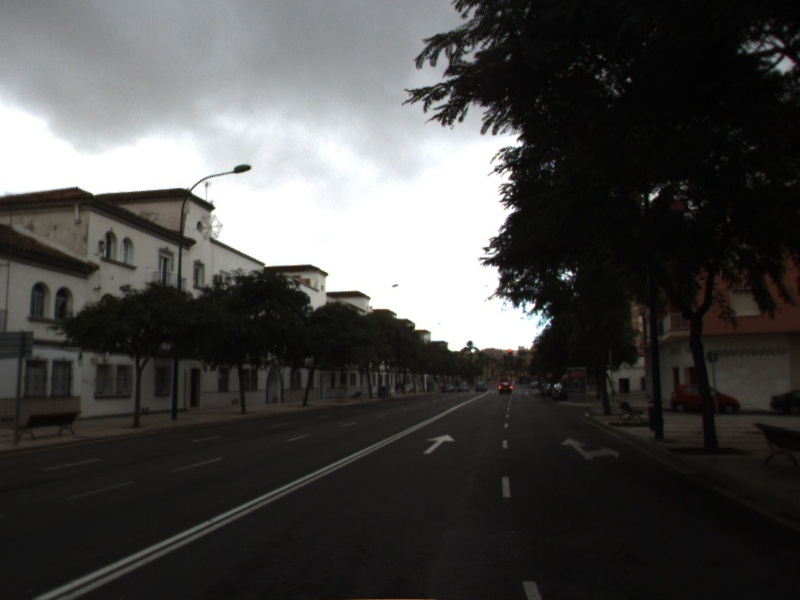STRAIGHT: (422, 433, 457, 455)
STRAIGHT_RIGHT: (560, 436, 621, 461)
